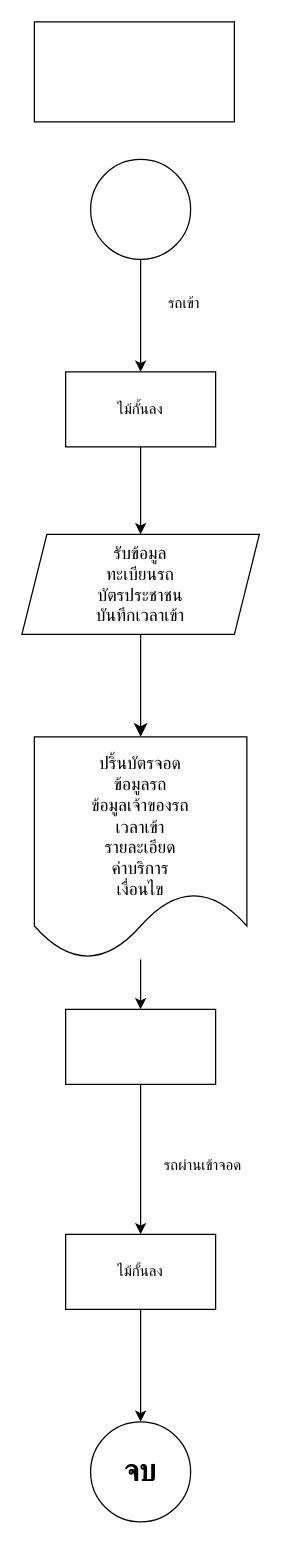
Image size: 281x1544. Some labels were removed from this diagram. Here are the shapes that lost their labels. From the top down, the centre of each, then its label:
At point 133,71: "ขาเข้า".
At point 140,208: "เริ่ม".
At point 140,1046: "ไม้กั้นขึ้น".
